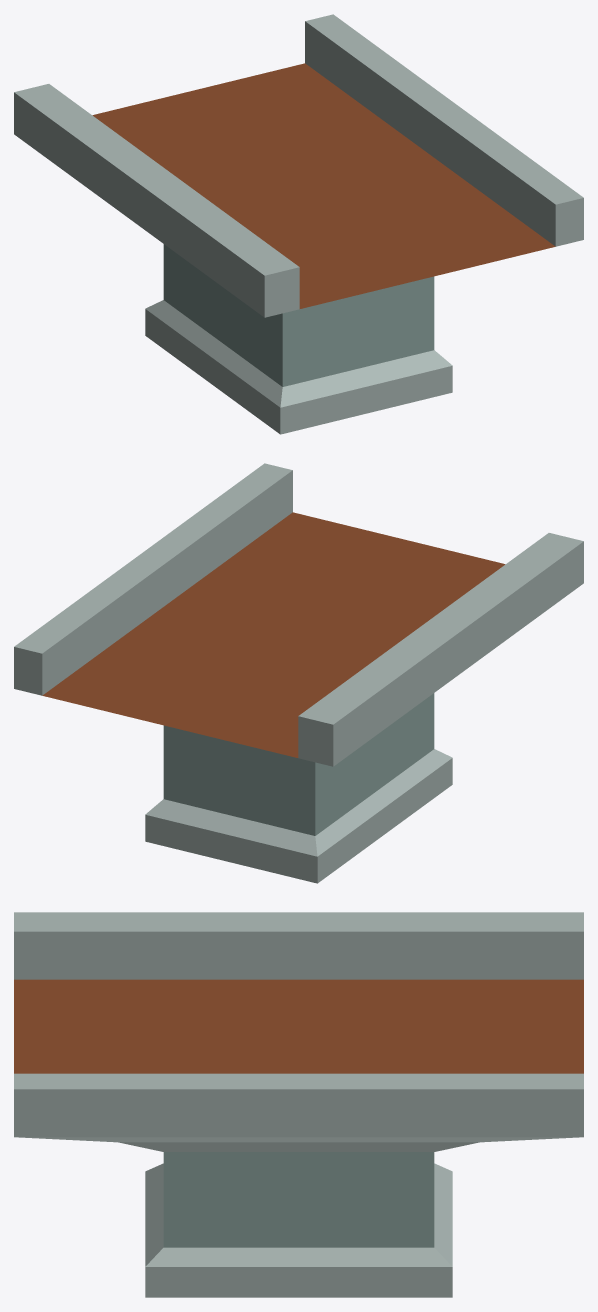
The model's file is Bridge 1.fbx.
3 renders of one model, top to bottom at view 1: azimuth 30°, elevation 25°; view 2: azimuth 150°, elevation 25°; view 3: azimuth 270°, elevation 25°, orthographic. The views are drawn at different scales.
Parts seen in each view (by area): view 1: Cube; view 2: Cube; view 3: Cube.
Part boxes in pixels (left/top/right/bottom): Cube: left=14, top=14, right=583, bottom=434; Cube: left=14, top=463, right=583, bottom=883; Cube: left=14, top=912, right=583, bottom=1297.
Bounding box in the file's own units: 161 × 105 × 218.
